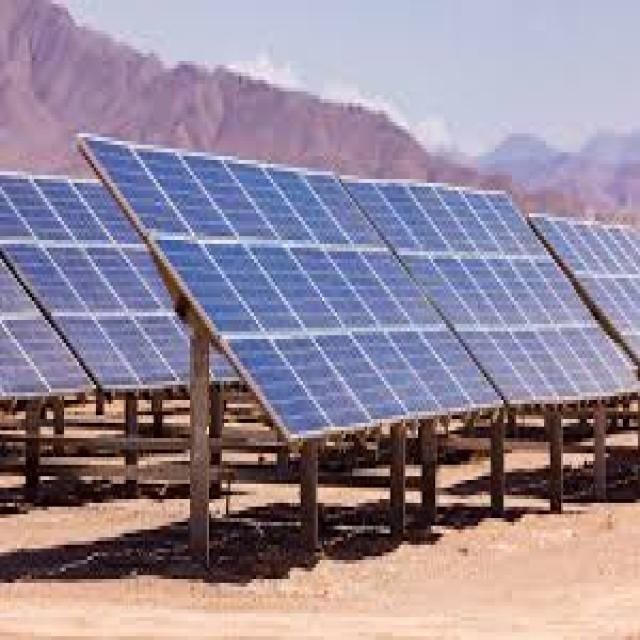clean-solar-panel: (81, 138, 640, 440)
